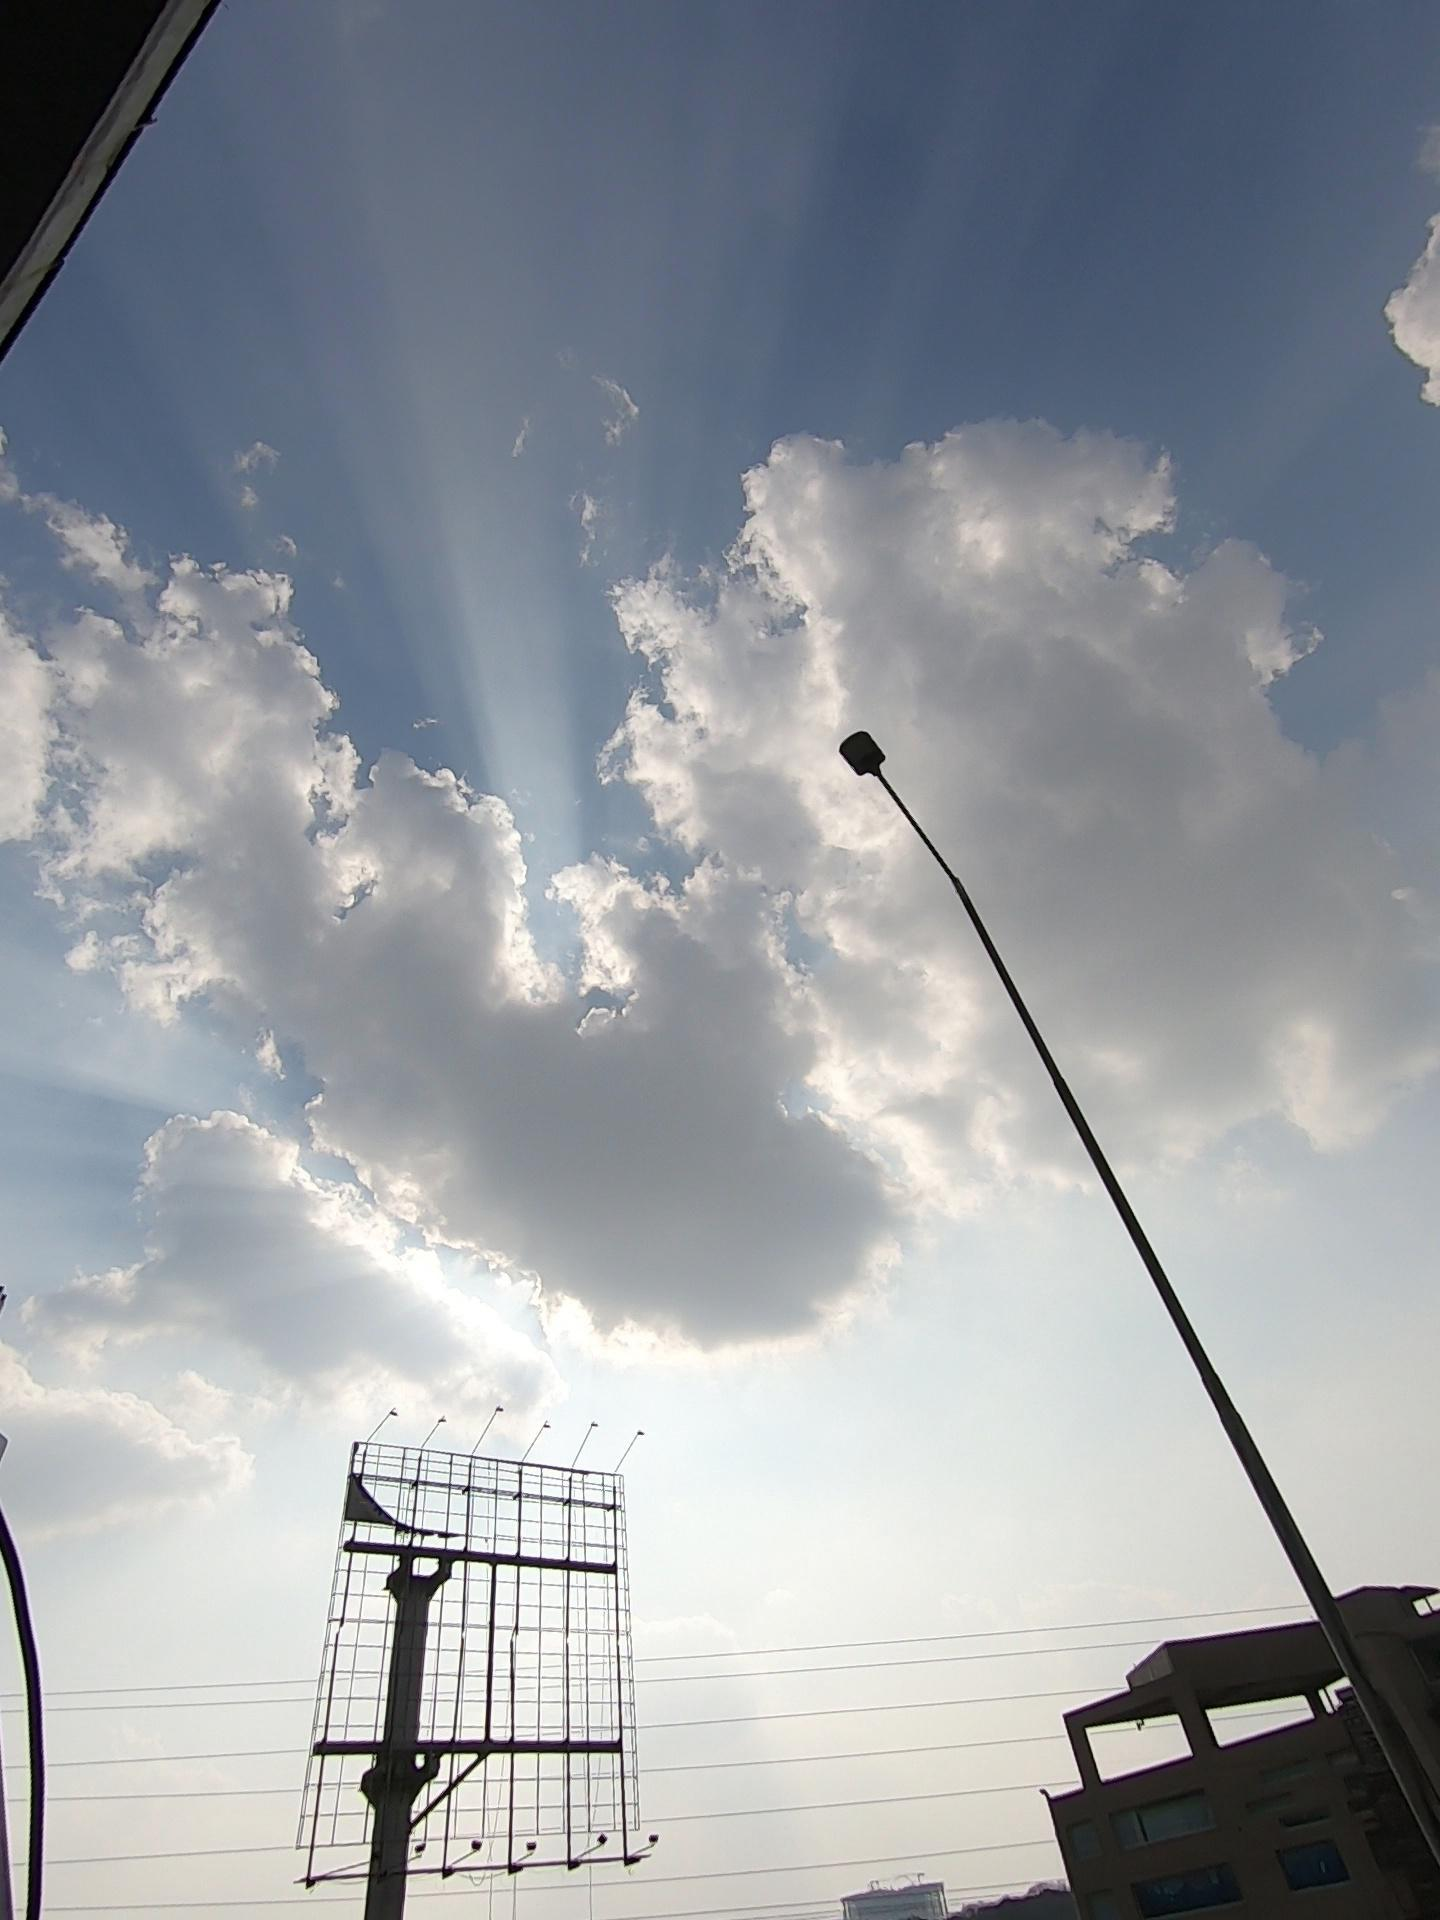off: (770, 680, 964, 904)
